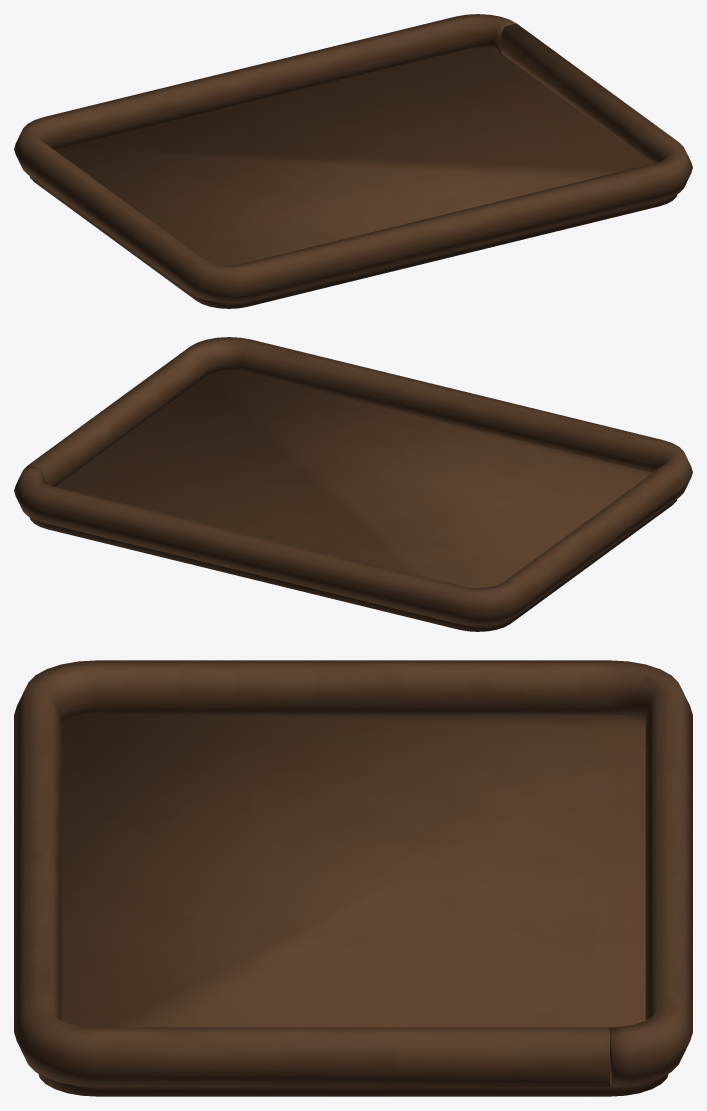
The model's file is tray_dark.glb.
3 renders of one model, top to bottom at view 1: azimuth 30°, elevation 25°; view 2: azimuth 150°, elevation 25°; view 3: azimuth 270°, elevation 25°, orthographic. The views are drawn at different scales.
Visible parts, largest first — view 1: tray_dark_wood_dark; view 2: tray_dark_wood_dark; view 3: tray_dark_wood_dark.
Part boxes in pixels (box(x1,y1,x2,y2)): tray_dark_wood_dark: box(14, 14, 692, 308); tray_dark_wood_dark: box(14, 337, 692, 631); tray_dark_wood_dark: box(14, 660, 692, 1096).
Size of the model in its own units: 0.928 by 0.0717 by 0.688.
1 material, 1 textured.
